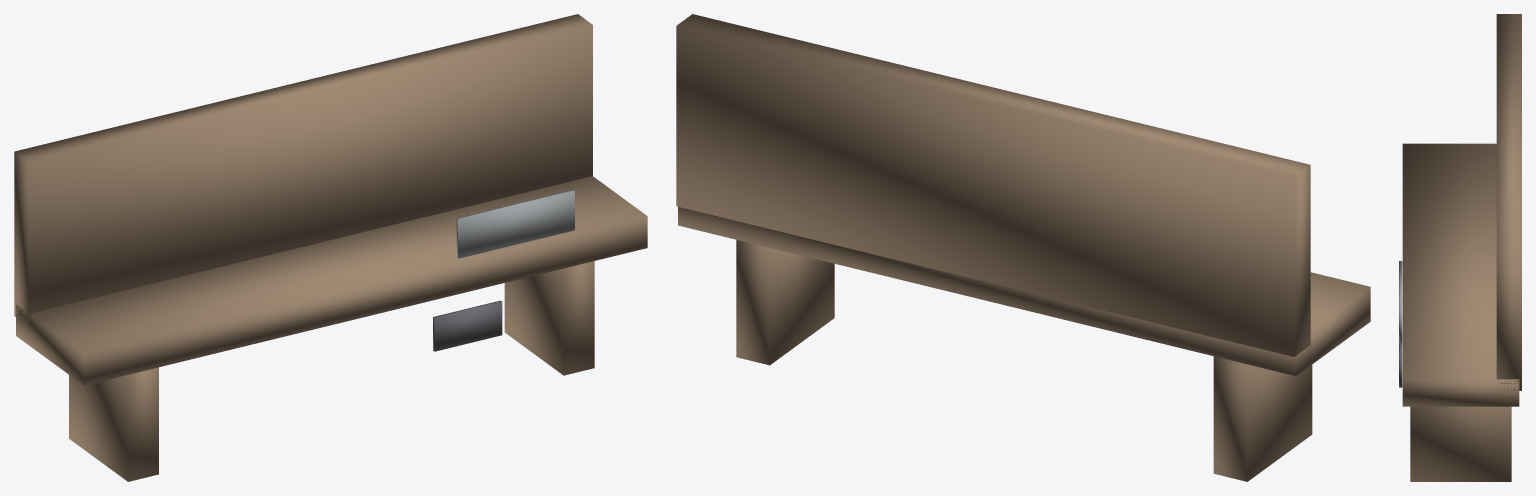
The model's file is church_pew__weathered.glb.
3 views of the same model, side by side, from view 1: azimuth 30°, elevation 25°; view 2: azimuth 150°, elevation 25°; view 3: azimuth 270°, elevation 25° (orthographic). The views are drawn at different scales.
Parts seen in each view (by area): view 1: world; view 2: world; view 3: world.
Boxes of the visible parts, bbox=[...] form: world: bbox=[14, 14, 647, 481]; world: bbox=[676, 14, 1370, 481]; world: bbox=[1399, 14, 1521, 481].
Size of the model in its own units: 2.2 by 1.1 by 0.484.
